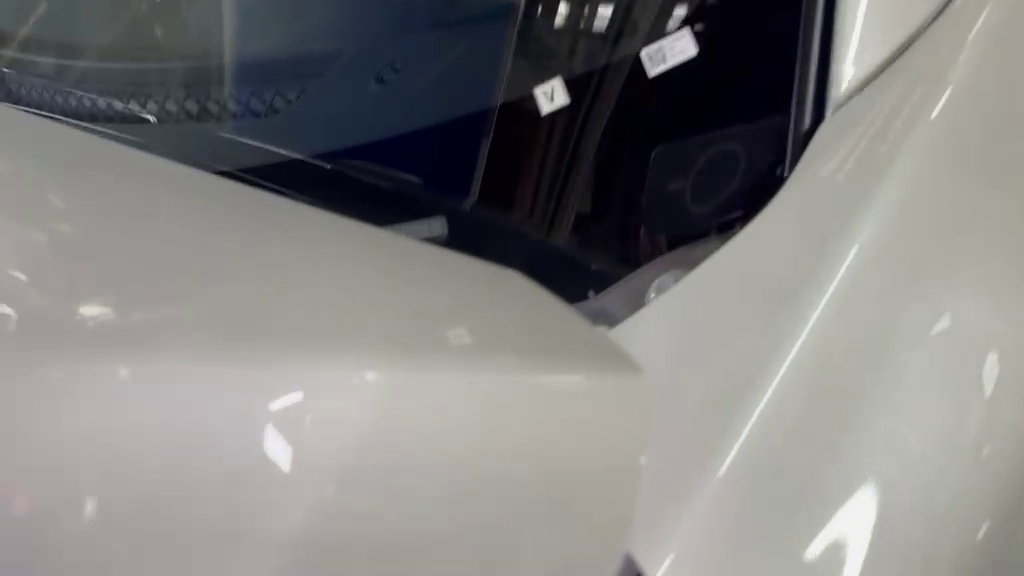hinge: (362, 203, 472, 273)
